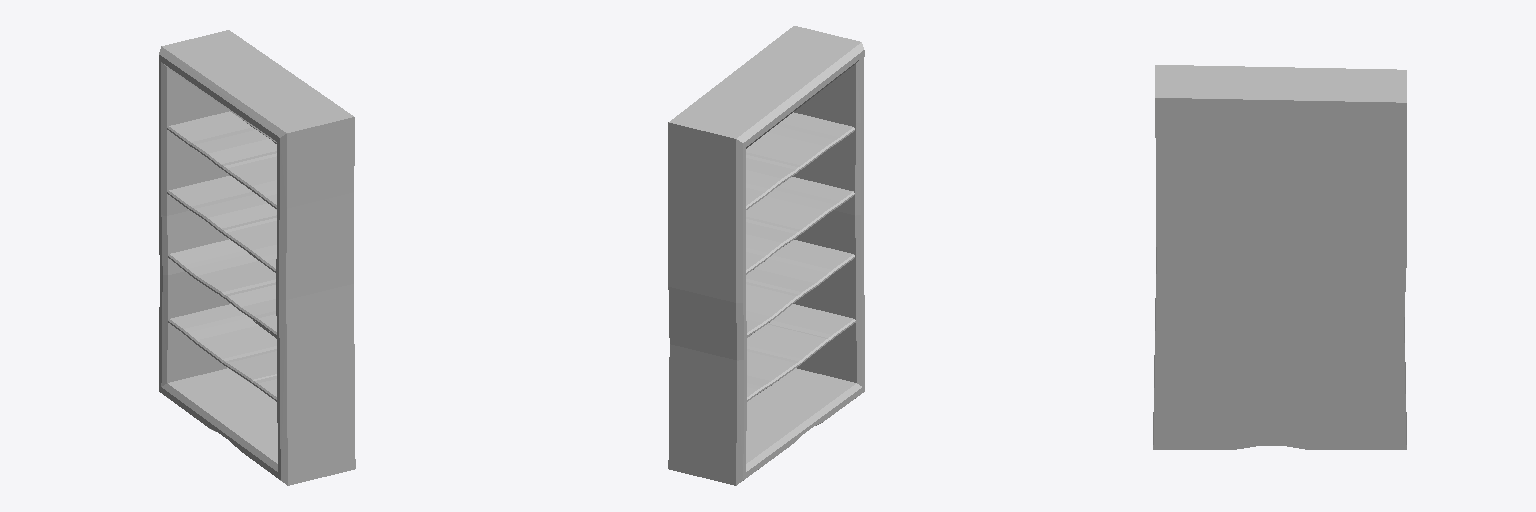
File: bookshelf.obj
The picture shows the model from 3 angles: view 1: azimuth 30°, elevation 25°; view 2: azimuth 150°, elevation 25°; view 3: azimuth 270°, elevation 25°; orthographic projection.
Visible parts, largest first — view 1: SHELF; view 2: SHELF; view 3: SHELF.
Boxes of the visible parts, x1,y1,x2,y2 form: SHELF: [159, 30, 355, 485]; SHELF: [668, 26, 864, 485]; SHELF: [1153, 65, 1406, 449].
Bounding box in the file's own units: 0.4758 × 2.2 × 1.44.